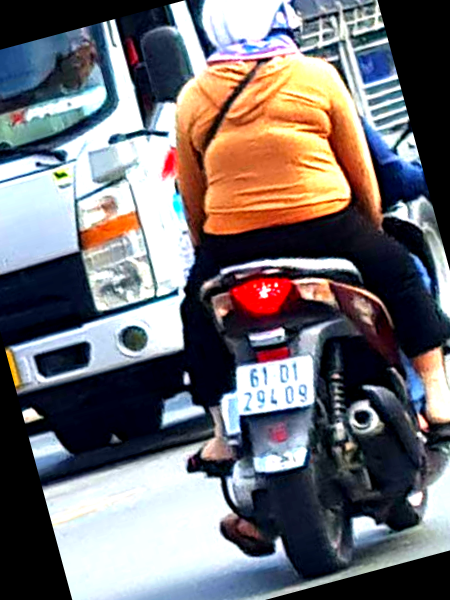number: (240, 361, 311, 416)
